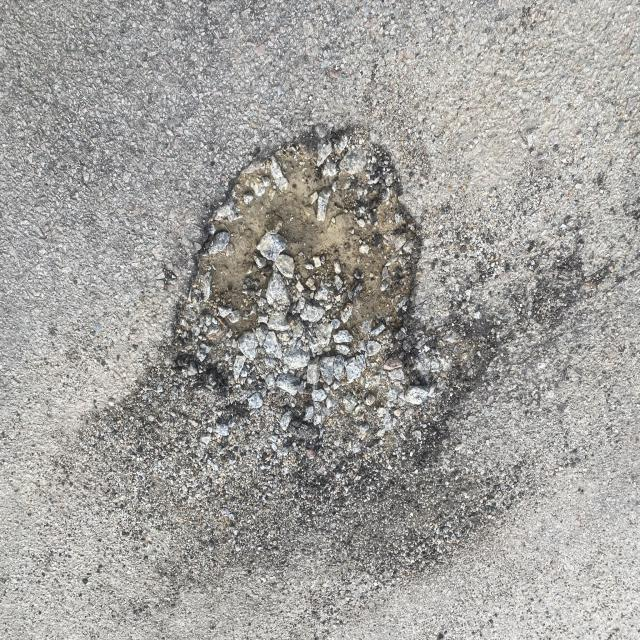pothole: (131, 85, 474, 581)
